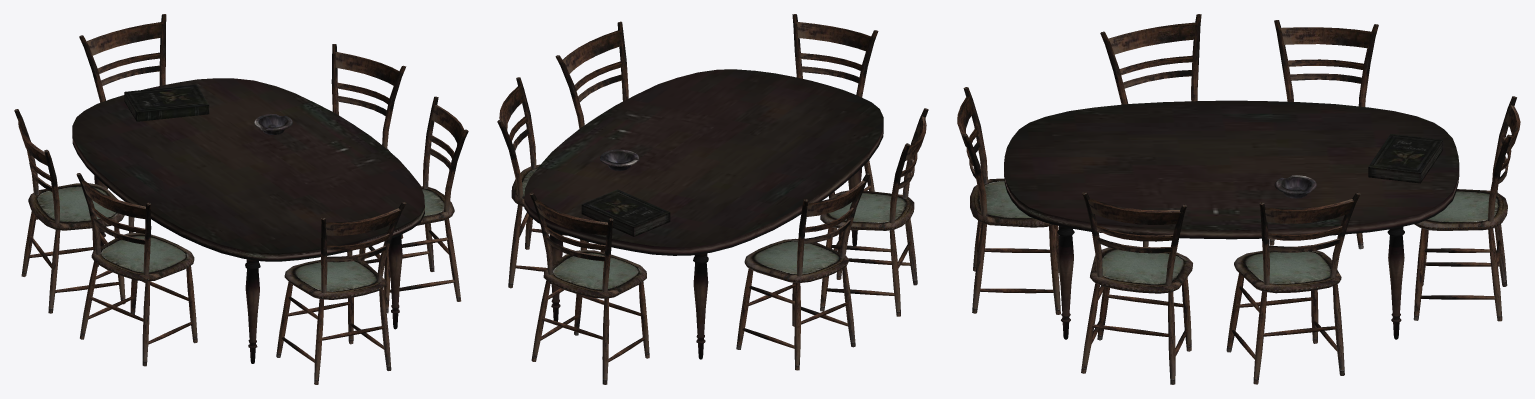
The picture shows the model from 3 angles, left to right: view 1: azimuth 30°, elevation 25°; view 2: azimuth 150°, elevation 25°; view 3: azimuth 270°, elevation 25°; orthographic projection. The views are drawn at different scales.
Parts seen in each view (by area): view 1: Mesh9_M_4260_mtl4260_0, Mesh4__auto_1_0, Mesh6__auto_1_0, Mesh5__auto_1_0, Mesh2__auto_1_0, Mesh1__auto_1_0, Mesh3__auto_1_0, Mesh8_M_4264_mtl4264_0, Mesh7_M_4261_mtl4261_0; view 2: Mesh9_M_4260_mtl4260_0, Mesh1__auto_1_0, Mesh5__auto_1_0, Mesh6__auto_1_0, Mesh3__auto_1_0, Mesh4__auto_1_0, Mesh2__auto_1_0, Mesh8_M_4264_mtl4264_0, Mesh7_M_4261_mtl4261_0; view 3: Mesh9_M_4260_mtl4260_0, Mesh3__auto_1_0, Mesh2__auto_1_0, Mesh1__auto_1_0, Mesh4__auto_1_0, Mesh5__auto_1_0, Mesh6__auto_1_0, Mesh8_M_4264_mtl4264_0, Mesh7_M_4261_mtl4261_0.
Part boxes in pixels (x1,y1,x2,y2): Mesh9_M_4260_mtl4260_0: [72, 78, 424, 363]; Mesh4__auto_1_0: [276, 202, 406, 384]; Mesh6__auto_1_0: [76, 173, 197, 366]; Mesh5__auto_1_0: [14, 109, 125, 313]; Mesh2__auto_1_0: [359, 96, 468, 313]; Mesh1__auto_1_0: [79, 14, 166, 233]; Mesh3__auto_1_0: [331, 44, 406, 255]; Mesh8_M_4264_mtl4264_0: [124, 84, 209, 121]; Mesh7_M_4261_mtl4261_0: [254, 114, 292, 134]; Mesh9_M_4260_mtl4260_0: [524, 69, 883, 359]; Mesh1__auto_1_0: [529, 192, 649, 384]; Mesh5__auto_1_0: [736, 173, 870, 370]; Mesh6__auto_1_0: [820, 108, 928, 316]; Mesh3__auto_1_0: [497, 77, 604, 288]; Mesh4__auto_1_0: [792, 14, 878, 231]; Mesh2__auto_1_0: [555, 21, 628, 128]; Mesh8_M_4264_mtl4264_0: [581, 189, 670, 236]; Mesh7_M_4261_mtl4261_0: [599, 149, 639, 170]; Mesh9_M_4260_mtl4260_0: [1004, 100, 1459, 339]; Mesh3__auto_1_0: [1226, 192, 1360, 384]; Mesh2__auto_1_0: [1081, 192, 1192, 384]; Mesh1__auto_1_0: [1413, 96, 1520, 321]; Mesh4__auto_1_0: [957, 87, 1060, 314]; Mesh5__auto_1_0: [1269, 20, 1378, 249]; Mesh6__auto_1_0: [1100, 14, 1201, 246]; Mesh8_M_4264_mtl4264_0: [1368, 134, 1442, 183]; Mesh7_M_4261_mtl4261_0: [1274, 175, 1316, 198].
Size of the model in its own units: 2.27 by 1.05 by 2.82.
Materials: 4 (4 with a texture image).
